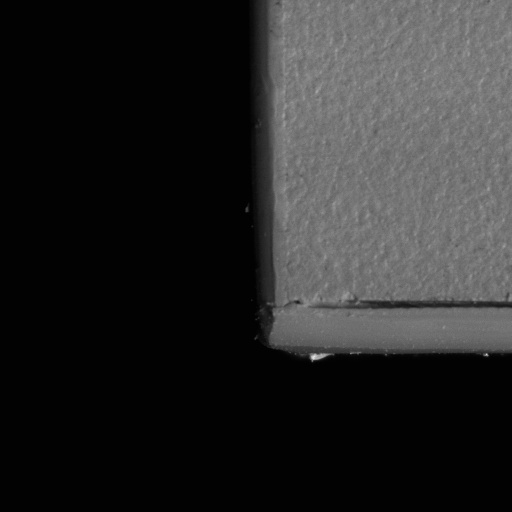jiaofeng: (326, 295, 511, 329)
